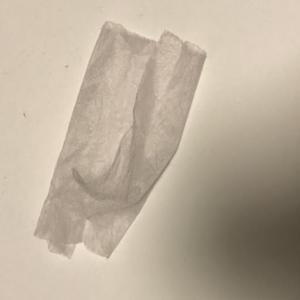Trash: (34, 21, 208, 260)
